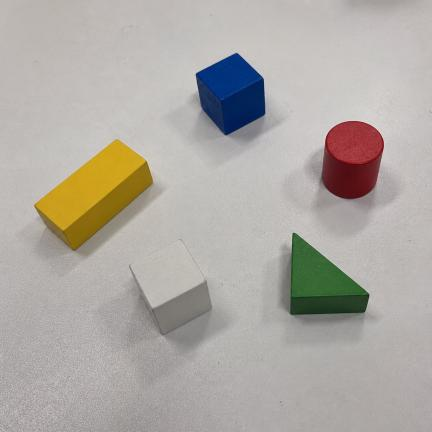BuildingBlocks: (36, 141, 152, 249), (130, 240, 211, 334), (291, 234, 369, 314), (197, 54, 265, 134), (322, 122, 383, 198)
